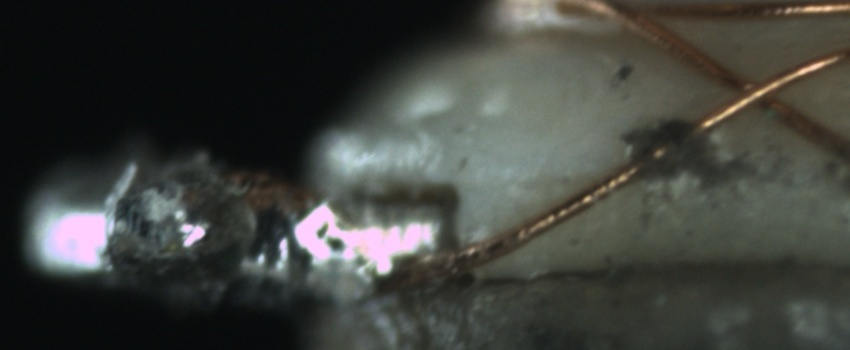CL: (714, 60, 801, 121)
DL: (495, 149, 619, 221)
